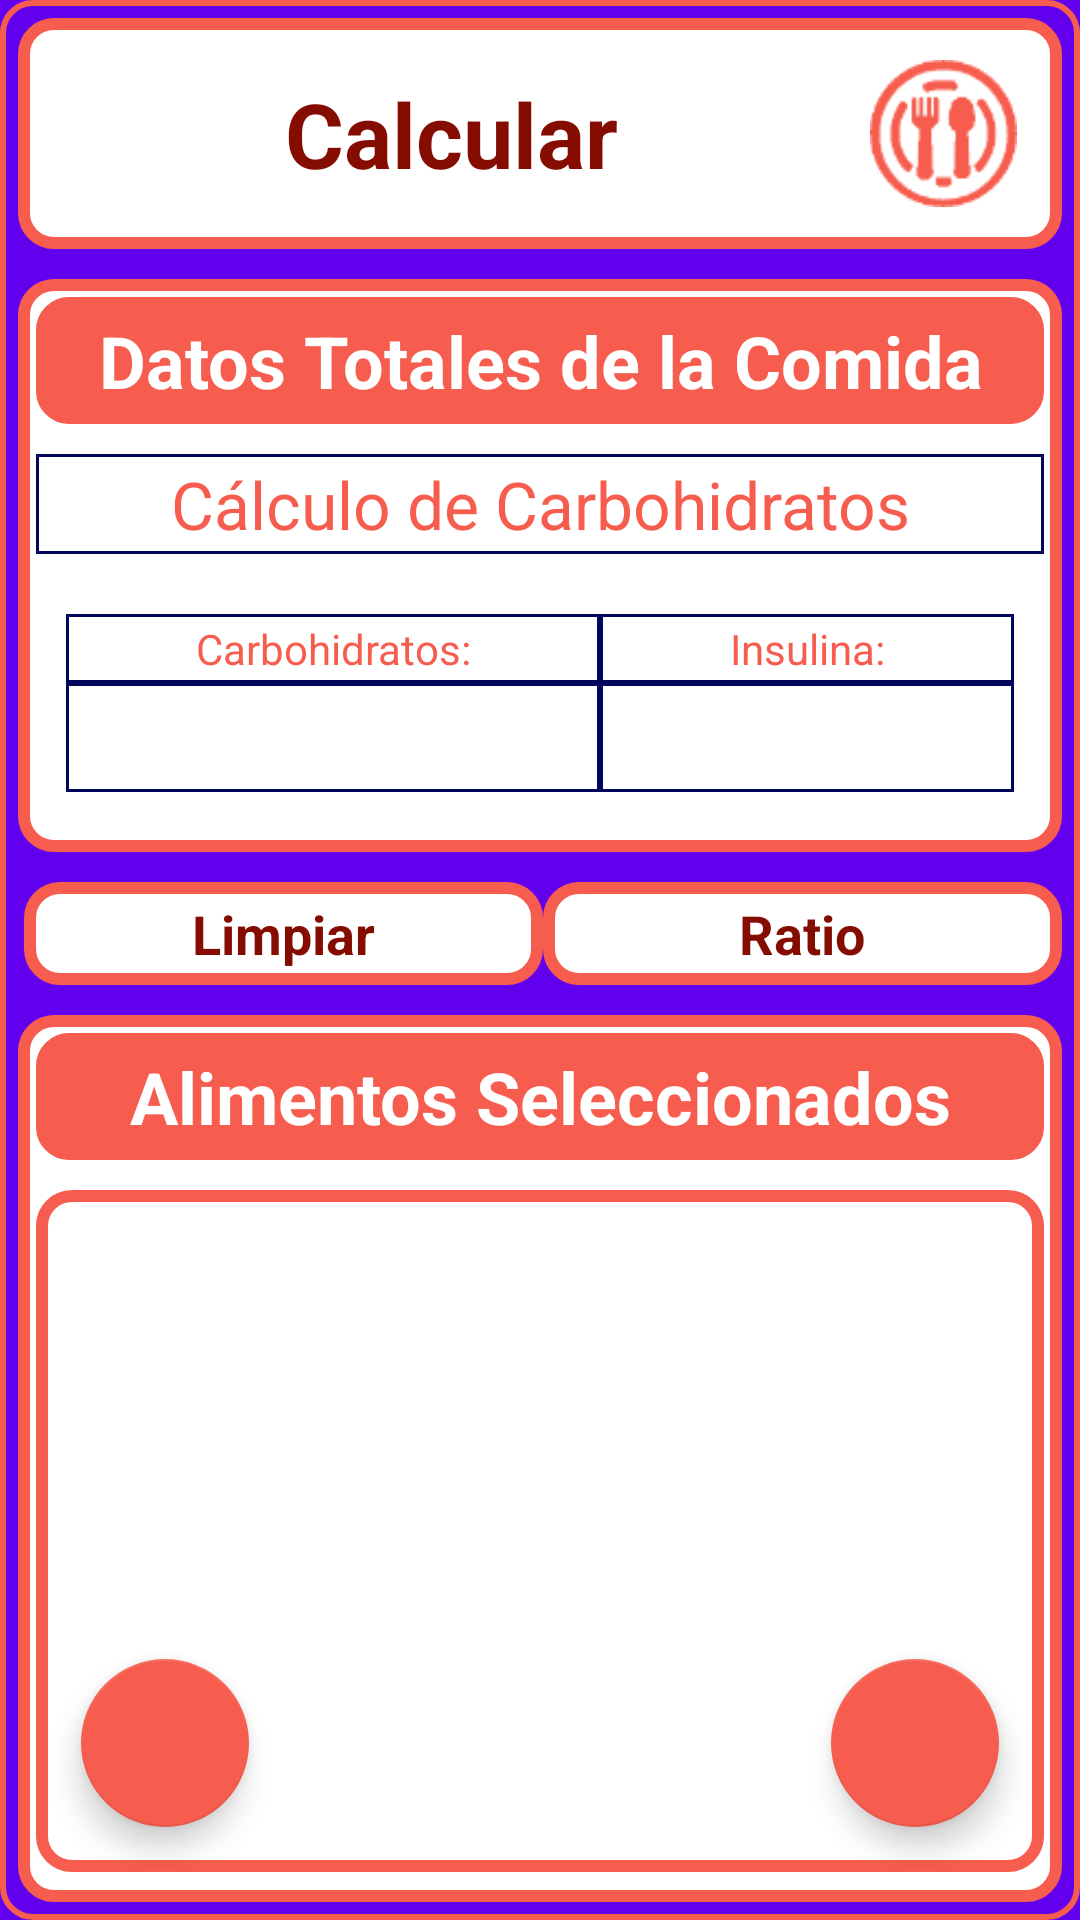

Where to tap for icons on this 1080 × 1920 app screen, as point (x, y):
comida sf: point (943, 133)
